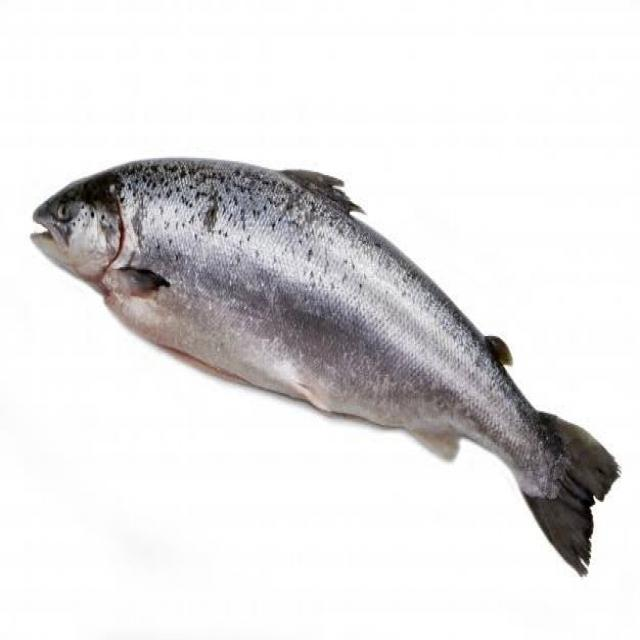salmon: (12, 134, 622, 592)
